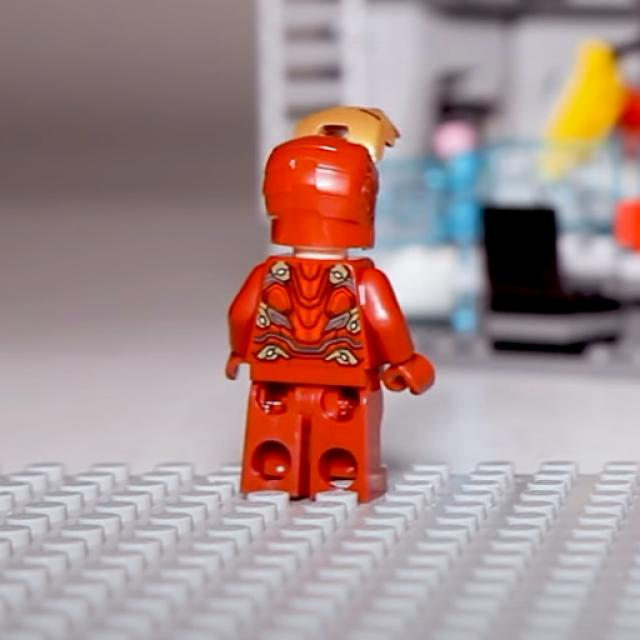Lego-Minifigures: (189, 96, 447, 529)
